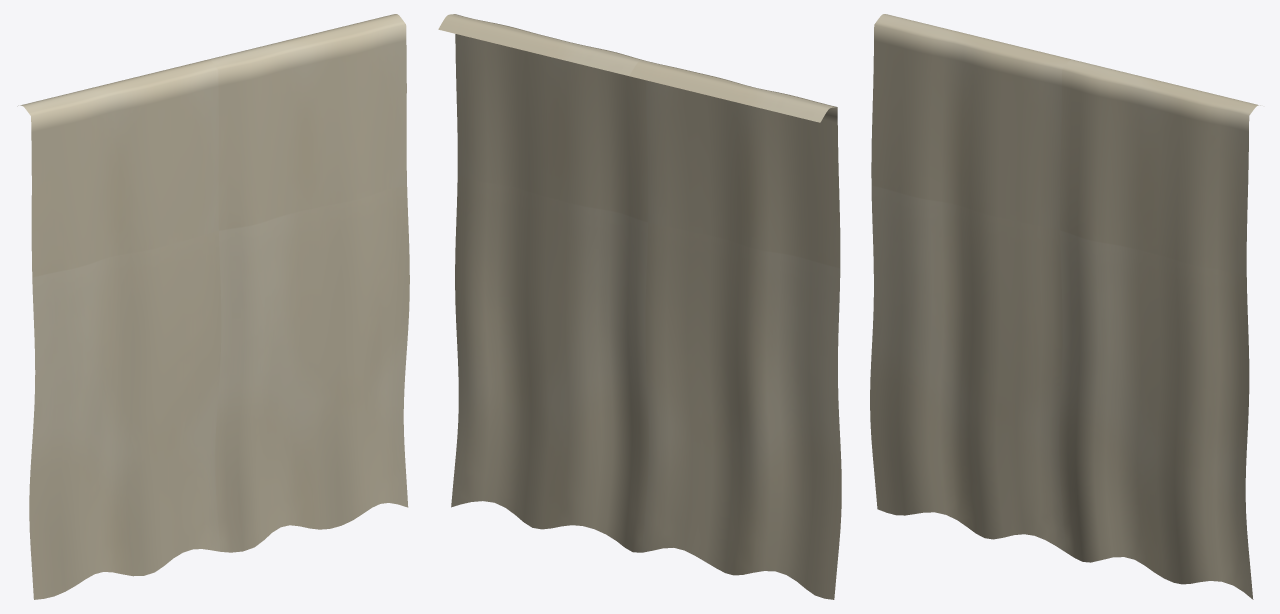
The model's file is VaiChePhuGuong_Sanh.glb.
3 renders of one model, left to right at view 1: azimuth 30°, elevation 25°; view 2: azimuth 150°, elevation 25°; view 3: azimuth 330°, elevation 25°, orthographic.
Parts seen in each view (by area): view 1: VaiChePhuGuong_Sanh; view 2: VaiChePhuGuong_Sanh; view 3: VaiChePhuGuong_Sanh.
Boxes of the visible parts, x1,y1,x2,y2 form: VaiChePhuGuong_Sanh: (17, 14, 409, 599); VaiChePhuGuong_Sanh: (438, 14, 841, 599); VaiChePhuGuong_Sanh: (870, 14, 1260, 599).
Bounding box in the file's own units: 0.5181 × 0.6364 × 0.0503.
Materials: 1 (1 with a texture image).
